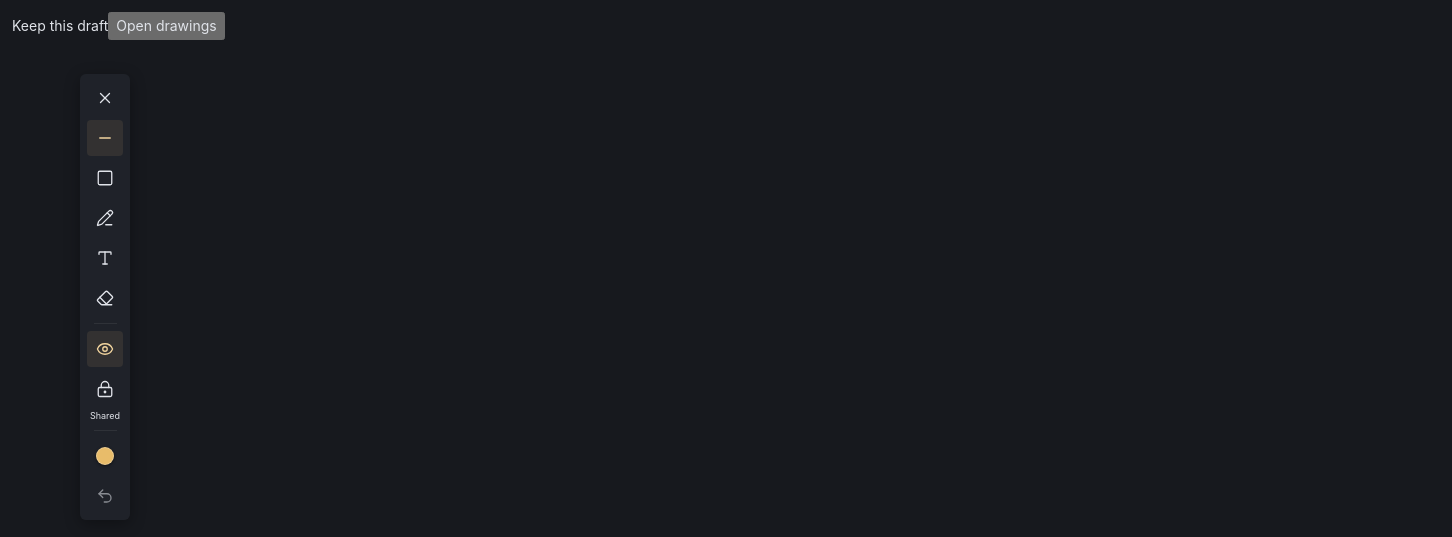
dismisses the temporary color picker on an outside pointer action
Click the button named "Drawing color": (105, 456) [87,438,123,474]
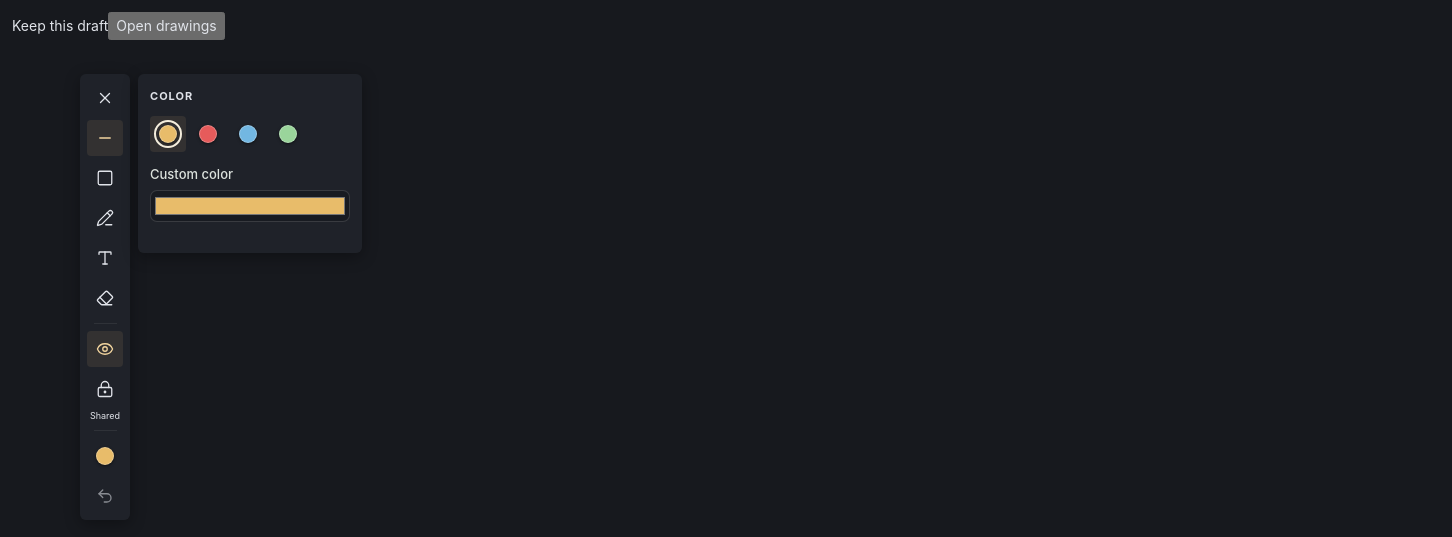
Expected: the button named "Blue drawing color" is shown, [230,116,266,152]
Press the mouse on the element showing "Keep this draft Open drawings Shared Color Custom color": (732, 26) [12,12,1451,40]
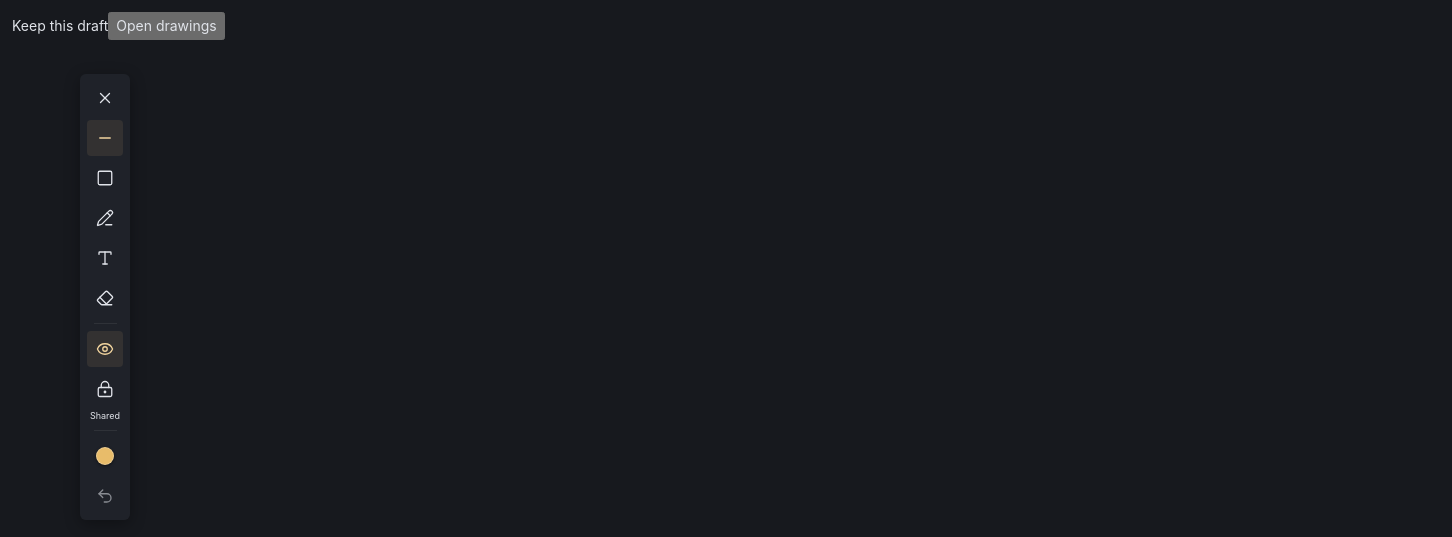
Expected: the button "Blue drawing color" is gone
